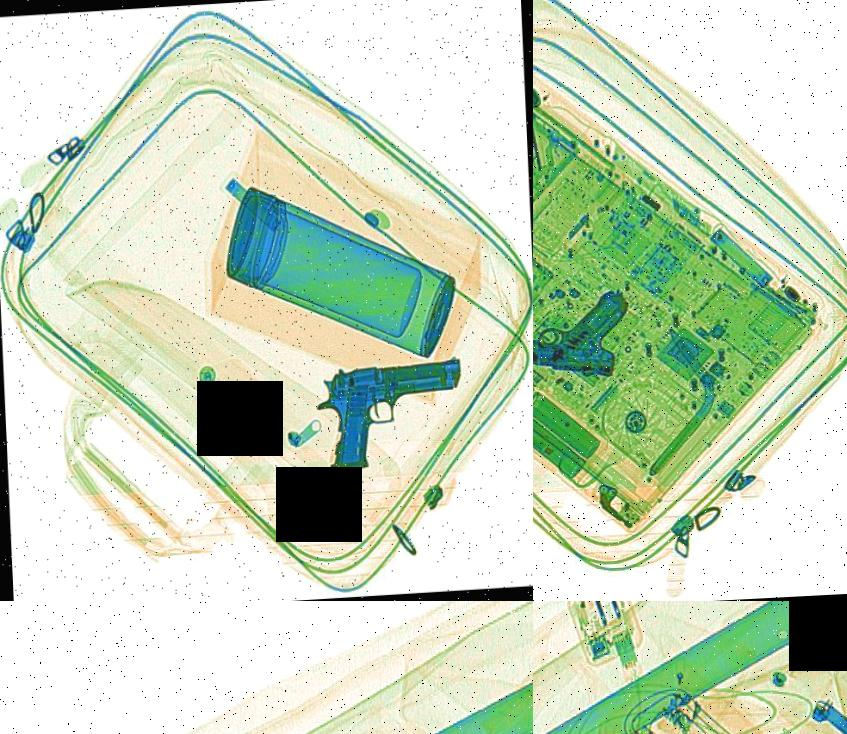Gun: (310, 353, 468, 472), (533, 266, 634, 384)
